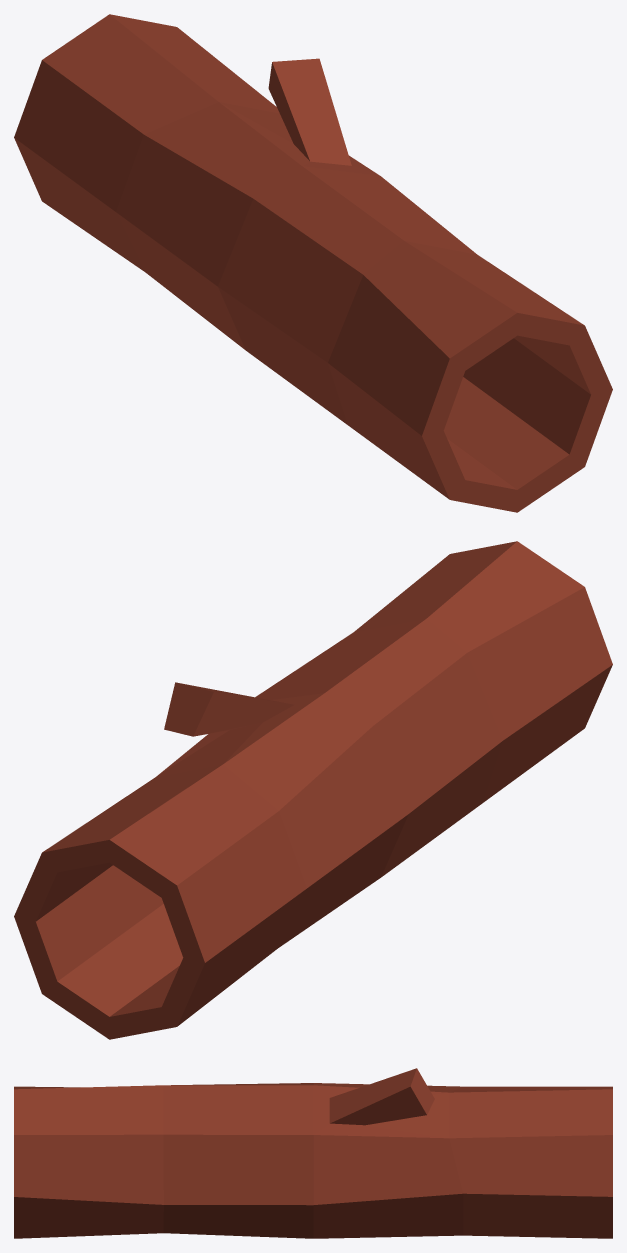
File: log_2a.fbx
3 renders of one model, top to bottom at view 1: azimuth 30°, elevation 25°; view 2: azimuth 150°, elevation 25°; view 3: azimuth 270°, elevation 25°, orthographic. The views are drawn at different scales.
Visible parts, largest first — view 1: log_2a; view 2: log_2a; view 3: log_2a.
Part boxes in pixels (<box>): log_2a: <box>14,14,612,512</box>; log_2a: <box>14,541,612,1039</box>; log_2a: <box>14,1068,612,1238</box>.
Size of the model in its own units: 53.77 by 64.6 by 197.
